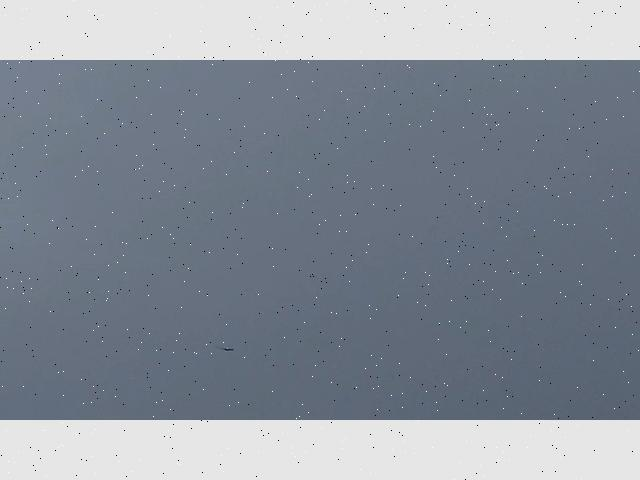Anti-Drone: (214, 344, 236, 352)
